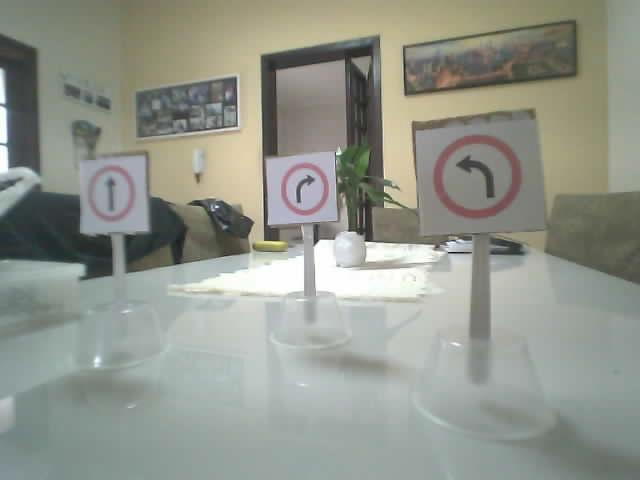R-25a_esquerda: (431, 134, 520, 218)
R-25b_direita: (280, 161, 329, 215)
R-26_frente: (88, 165, 134, 222)
